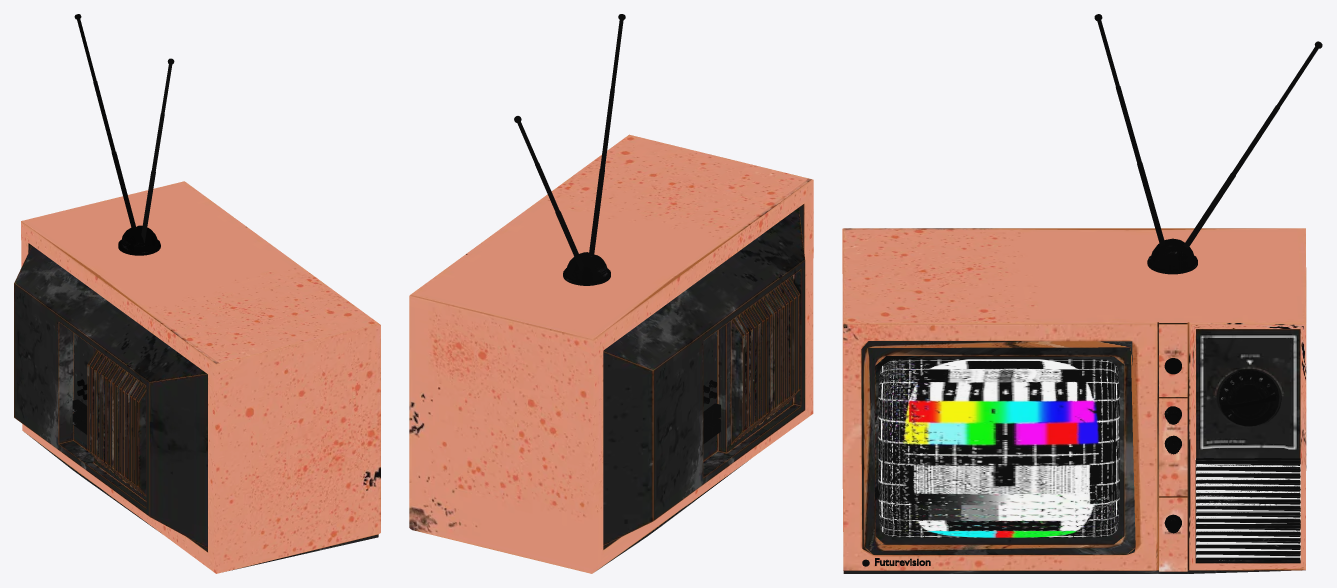
File: antennatv.glb
3 views of the same model, side by side, from view 1: azimuth 30°, elevation 25°; view 2: azimuth 150°, elevation 25°; view 3: azimuth 270°, elevation 25° (orthographic). The views are drawn at different scales.
Parts seen in each view (by area): view 1: tv.007_20, antena.001_2, anthena holder.001_3, antena 2.001_1; view 2: tv.007_20, antena 2.001_1, anthena holder.001_3, antena.001_2, tv.006_18; view 3: tv.007_20, screen.001_15, tv.004_17, tv.003_0, big button.001_4, antena.001_2, anthena holder.001_3, antena 2.001_1.
Part boxes in pixels (bbox=[...]): tv.007_20: bbox=[14, 181, 380, 573]; antena.001_2: bbox=[74, 14, 136, 228]; anthena holder.001_3: bbox=[118, 225, 160, 255]; antena 2.001_1: bbox=[141, 58, 174, 242]; tv.007_20: bbox=[409, 134, 813, 573]; antena 2.001_1: bbox=[588, 14, 625, 257]; anthena holder.001_3: bbox=[563, 252, 610, 285]; antena.001_2: bbox=[514, 116, 583, 271]; tv.006_18: bbox=[703, 403, 720, 444]; tv.007_20: bbox=[842, 228, 1306, 573]; screen.001_15: bbox=[878, 359, 1119, 537]; tv.004_17: bbox=[1195, 458, 1300, 563]; tv.003_0: bbox=[1195, 458, 1300, 559]; big button.001_4: bbox=[1219, 370, 1279, 426]; antena.001_2: bbox=[1183, 41, 1322, 248]; anthena holder.001_3: bbox=[1147, 238, 1197, 274]; antena 2.001_1: bbox=[1094, 14, 1165, 246].
Size of the model in its own units: 0.5339 by 1.01 by 0.8765.
8 materials, 5 textured.
